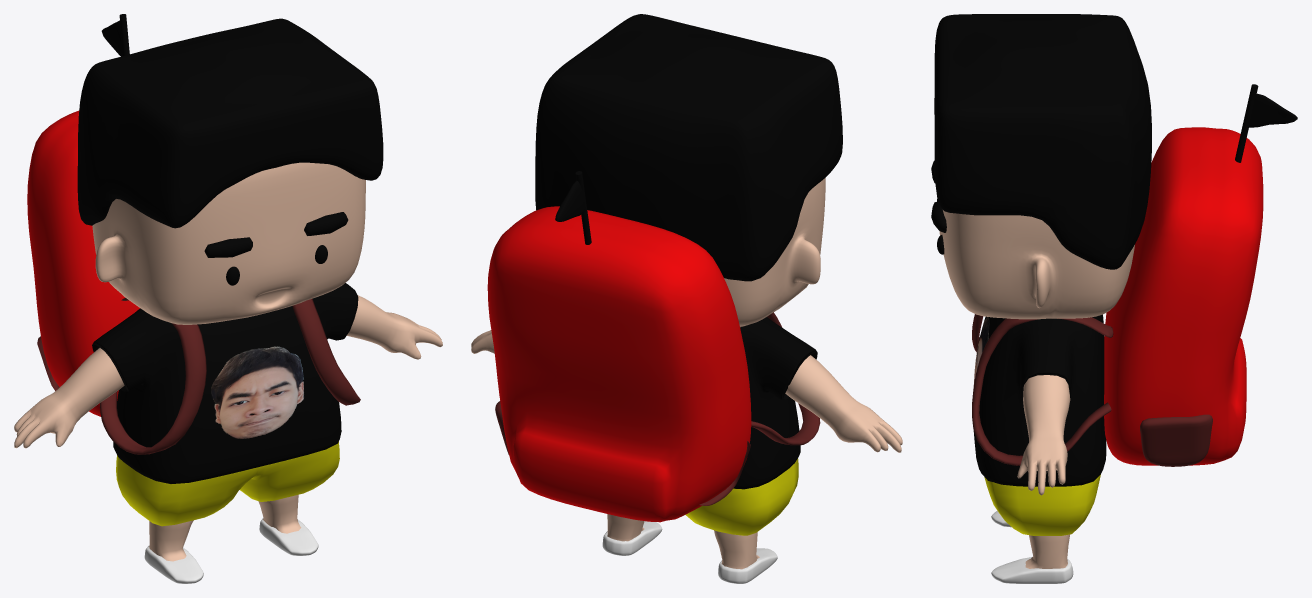
File: topweb.glb
The picture shows the model from 3 angles, left to right: view 1: azimuth 30°, elevation 25°; view 2: azimuth 150°, elevation 25°; view 3: azimuth 270°, elevation 25°; orthographic projection.
Visible parts, largest first — view 1: SD2; view 2: SD2; view 3: SD2.
Boxes of the visible parts, x1,y1,x2,y2 form: SD2: (14, 14, 442, 583); SD2: (471, 14, 902, 583); SD2: (931, 14, 1297, 583).
Size of the model in its own units: 5.99 by 6.67 by 4.41.
Materials: 9 (1 with a texture image).
